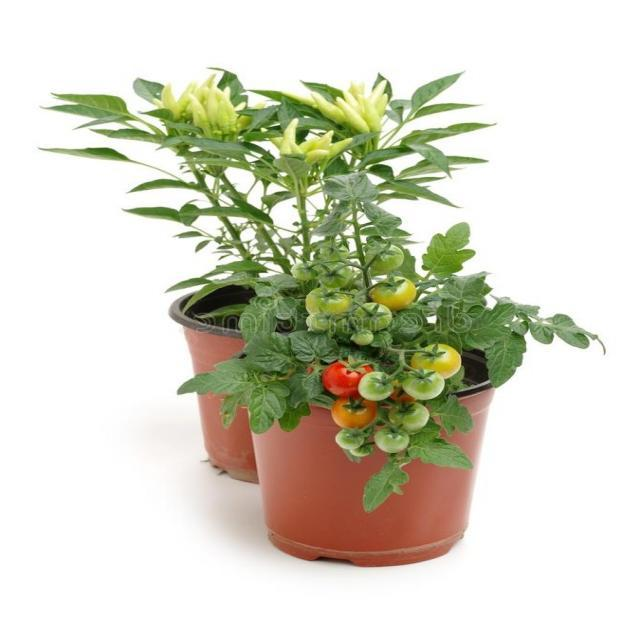brinjal: (49, 69, 491, 250)
plant: (170, 260, 305, 337)
